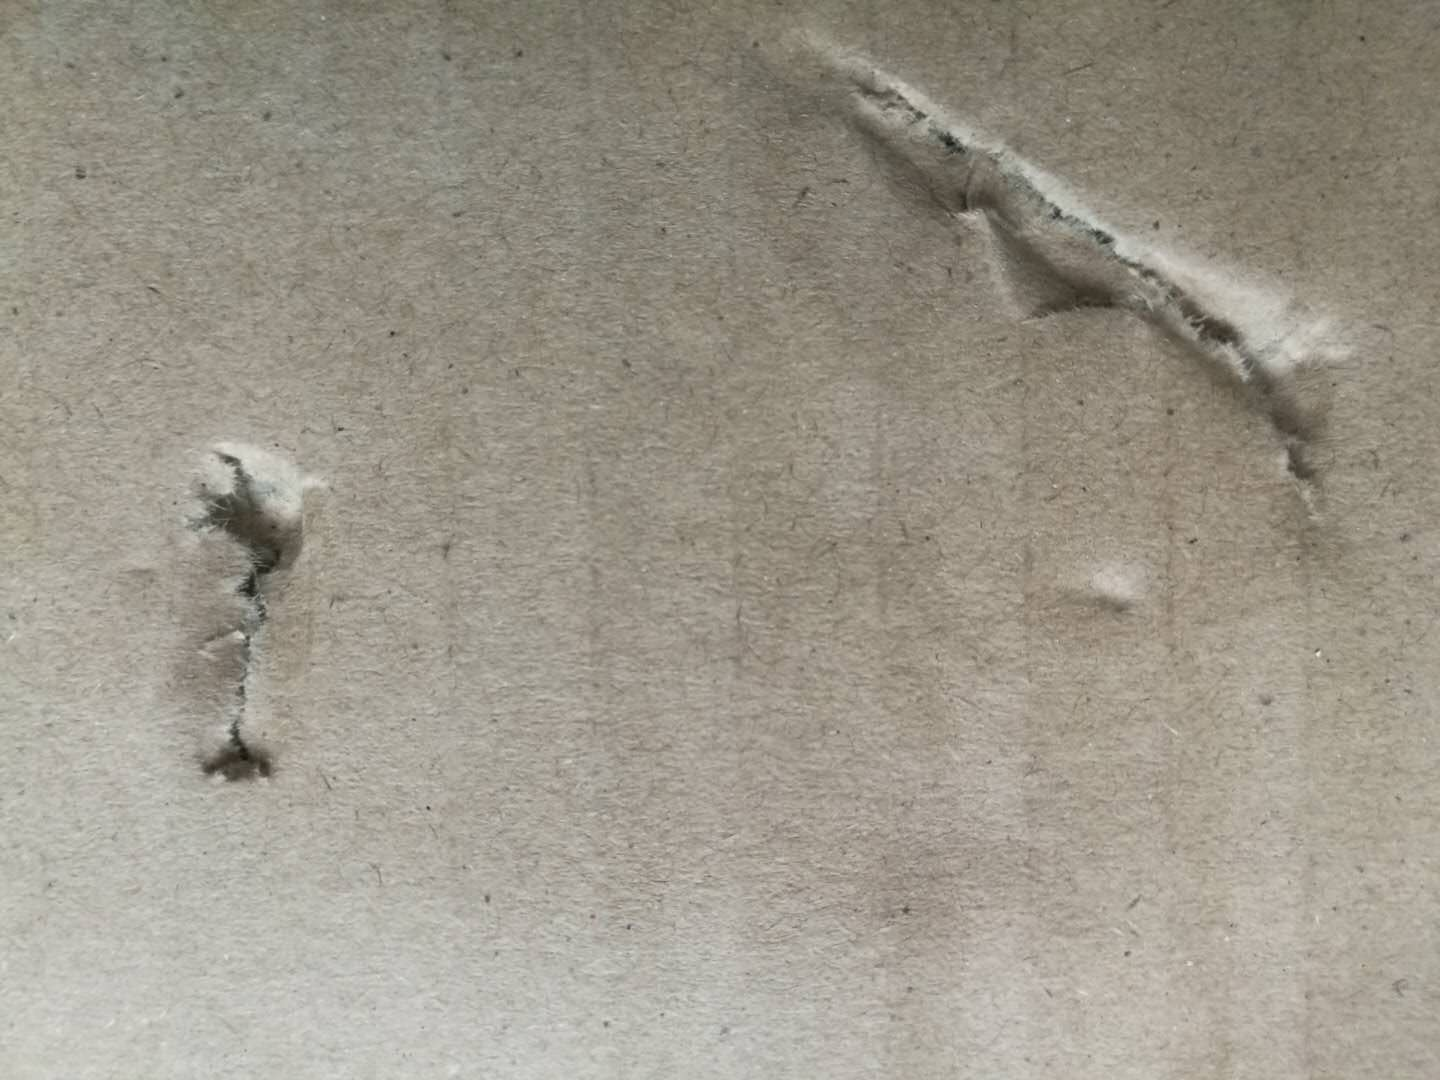defect: (729, 9, 1417, 636), (105, 420, 364, 817), (1048, 550, 1171, 649)
